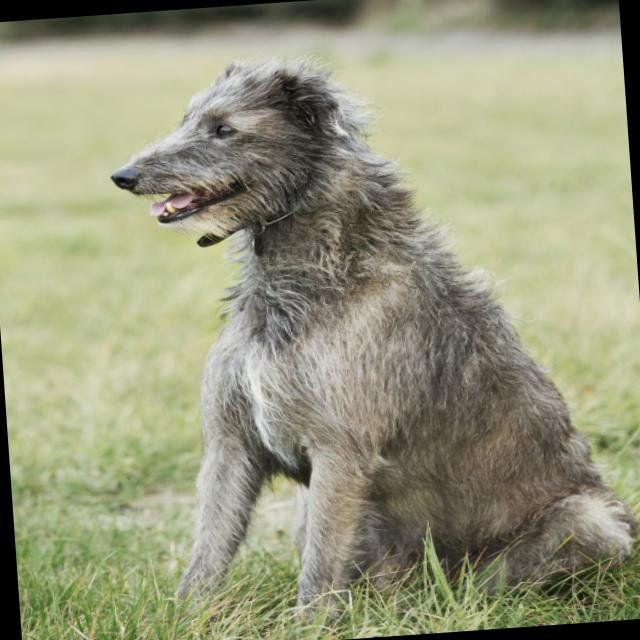dogs: (96, 33, 640, 629)
